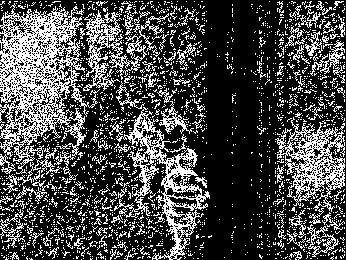person: (161, 148, 206, 260), (131, 111, 162, 200)
